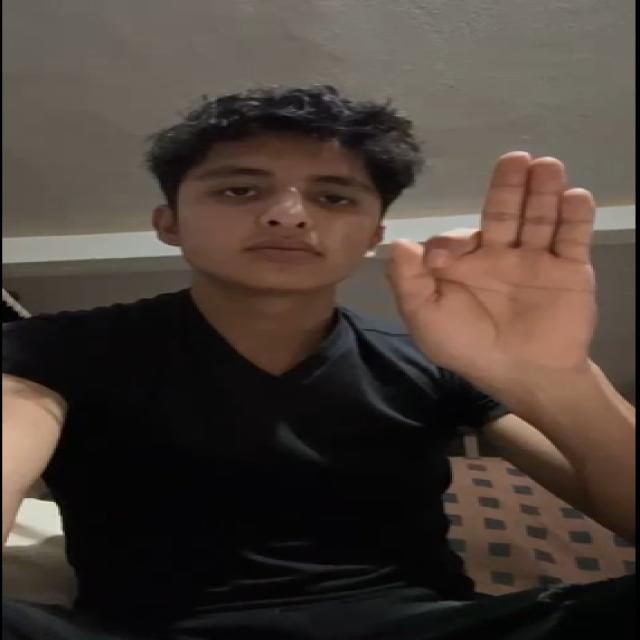F: (387, 120, 614, 400)
